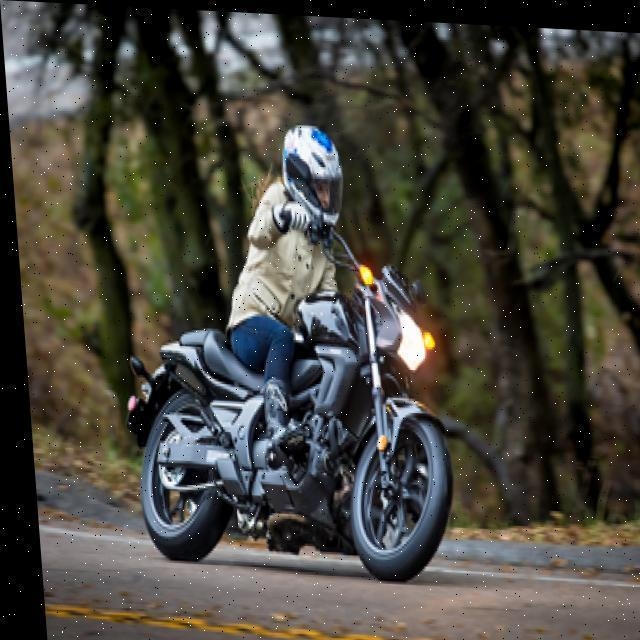Helmet: (276, 119, 346, 222)
